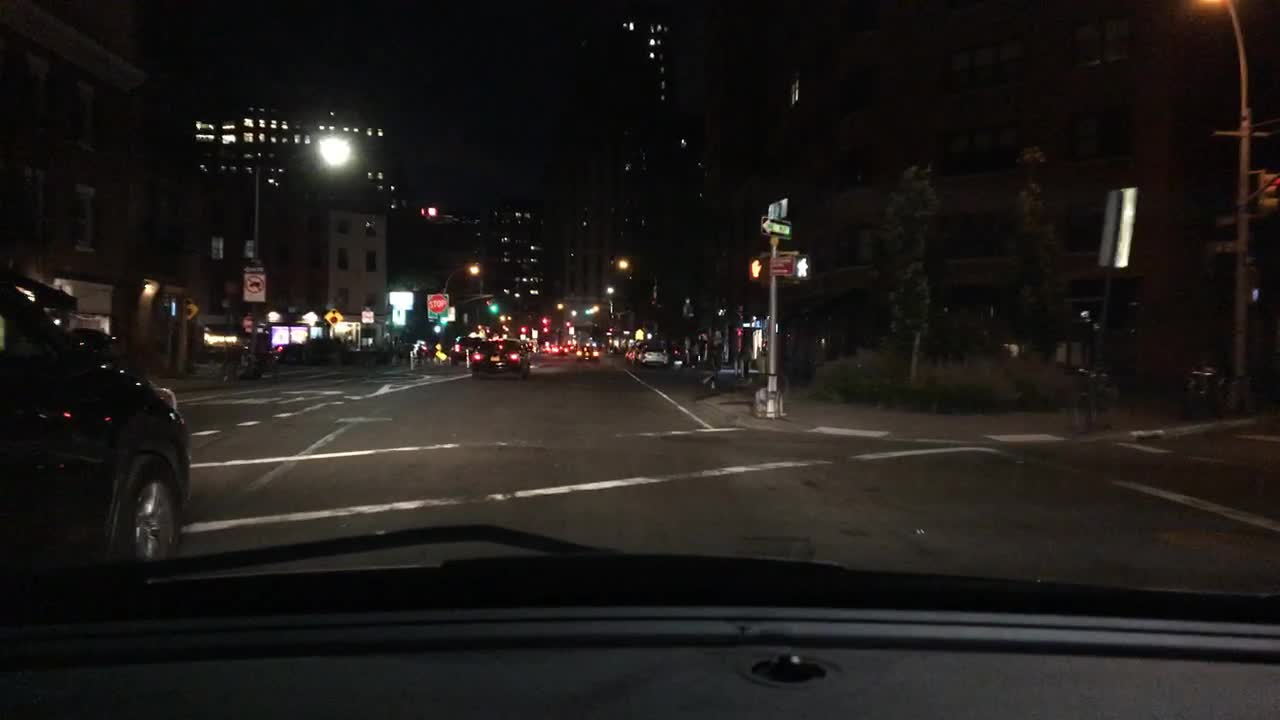bike: (1177, 363, 1238, 420), (1072, 364, 1119, 433)
car: (0, 267, 193, 564), (468, 336, 531, 378), (268, 340, 313, 366), (449, 335, 480, 367), (638, 343, 668, 370), (573, 343, 600, 362), (622, 339, 642, 362), (558, 343, 568, 358), (538, 343, 550, 355), (550, 343, 561, 356)
person: (742, 339, 753, 378), (696, 332, 708, 366)
traffic light: (1259, 170, 1277, 210), (793, 251, 812, 278), (750, 255, 765, 278), (421, 204, 437, 219), (1250, 285, 1261, 304), (487, 301, 499, 313), (563, 320, 573, 329), (540, 315, 548, 323), (519, 326, 527, 334)
traffic sign: (1095, 186, 1139, 268), (760, 214, 792, 239), (244, 263, 265, 300), (321, 305, 345, 328), (768, 254, 793, 275), (425, 294, 448, 316), (766, 195, 788, 218), (1204, 237, 1236, 251), (183, 296, 199, 320), (357, 303, 374, 323), (240, 313, 255, 335), (1214, 213, 1238, 224)
